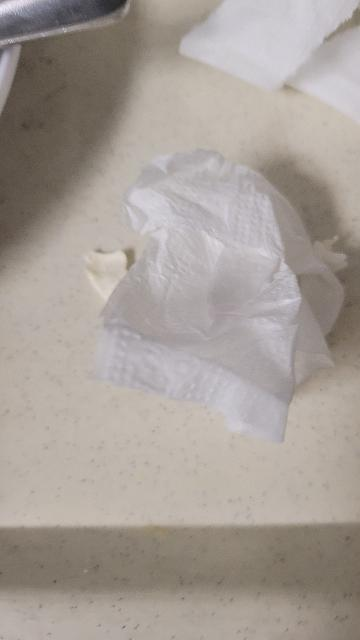Kagit: (92, 131, 352, 450)
